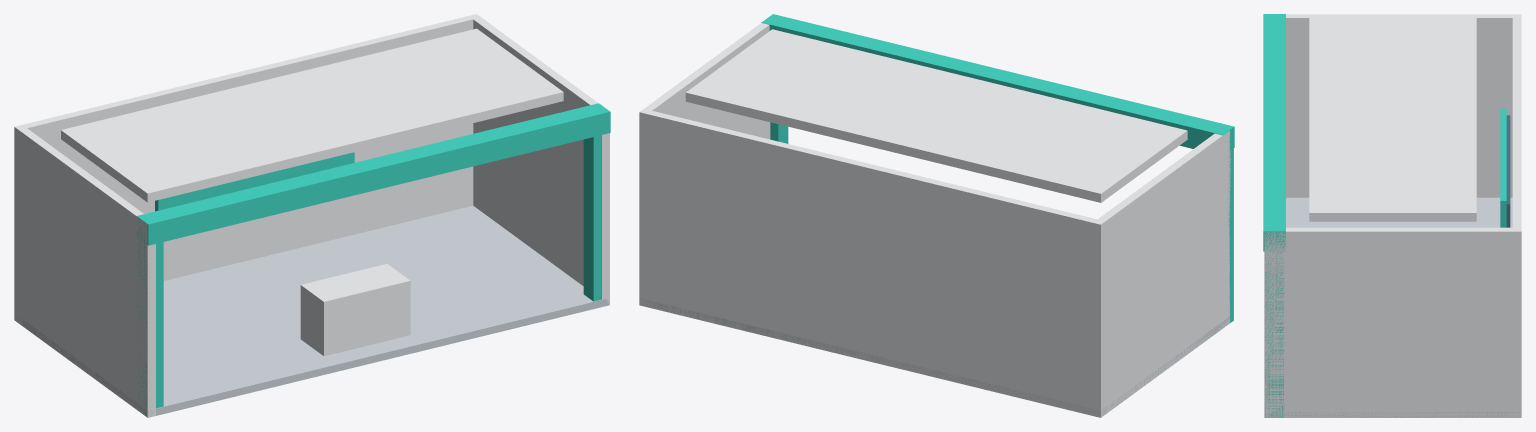
The picture shows the model from 3 angles, left to right: view 1: azimuth 30°, elevation 25°; view 2: azimuth 150°, elevation 25°; view 3: azimuth 270°, elevation 25°; orthographic projection. The views are drawn at different scales.
Parts seen in each view (by area): view 1: Exhibition Booth Concept; view 2: Exhibition Booth Concept; view 3: Exhibition Booth Concept.
Part boxes in pixels (left/top/right/bottom): Exhibition Booth Concept: left=14, top=14, right=610, bottom=417; Exhibition Booth Concept: left=639, top=14, right=1234, bottom=417; Exhibition Booth Concept: left=1263, top=14, right=1521, bottom=417.
Size of the model in its own units: 8 by 3.34 by 4.02.
